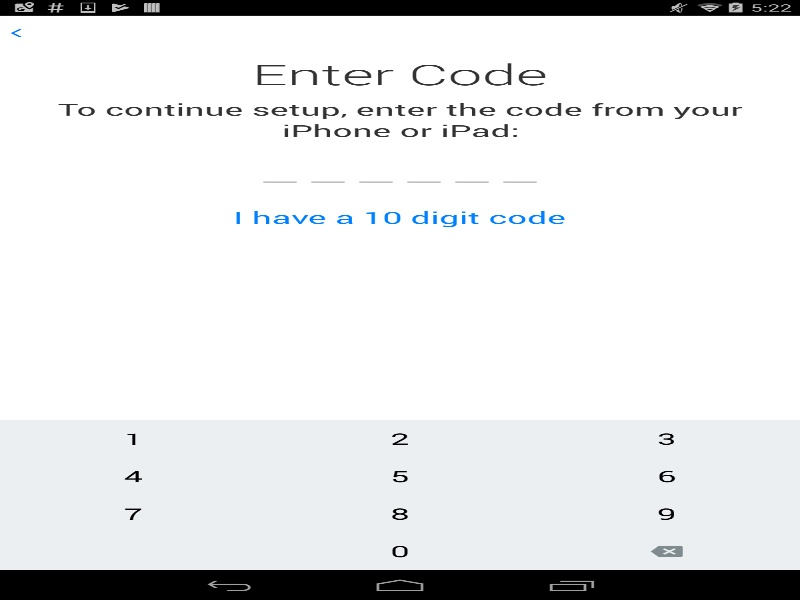Button: (266, 457, 533, 495), (533, 457, 800, 495), (266, 532, 533, 570), (533, 532, 800, 570), (0, 457, 266, 495), (0, 532, 266, 570), (266, 420, 533, 457), (533, 420, 800, 457), (266, 495, 533, 532), (533, 495, 800, 532), (0, 420, 266, 457), (0, 495, 266, 532), (0, 25, 32, 40)
Input: (262, 172, 297, 191), (310, 172, 345, 191), (358, 172, 393, 191), (406, 172, 441, 191), (454, 172, 489, 191), (502, 172, 537, 191)
